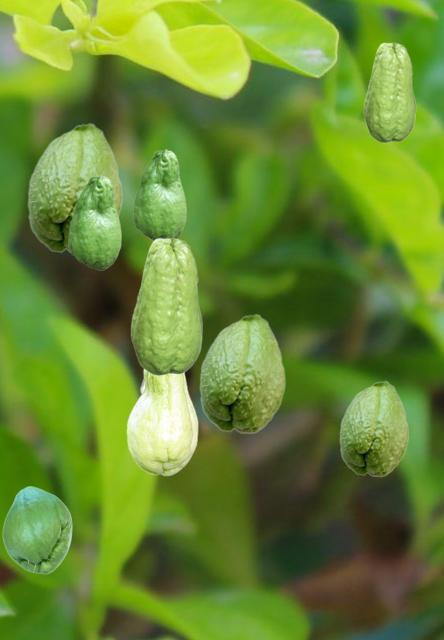sayote: (27, 122, 122, 253), (199, 313, 285, 433), (130, 237, 202, 375), (126, 370, 197, 475), (339, 380, 408, 476), (2, 486, 71, 573), (363, 42, 415, 142), (68, 175, 120, 269), (133, 149, 185, 240)
